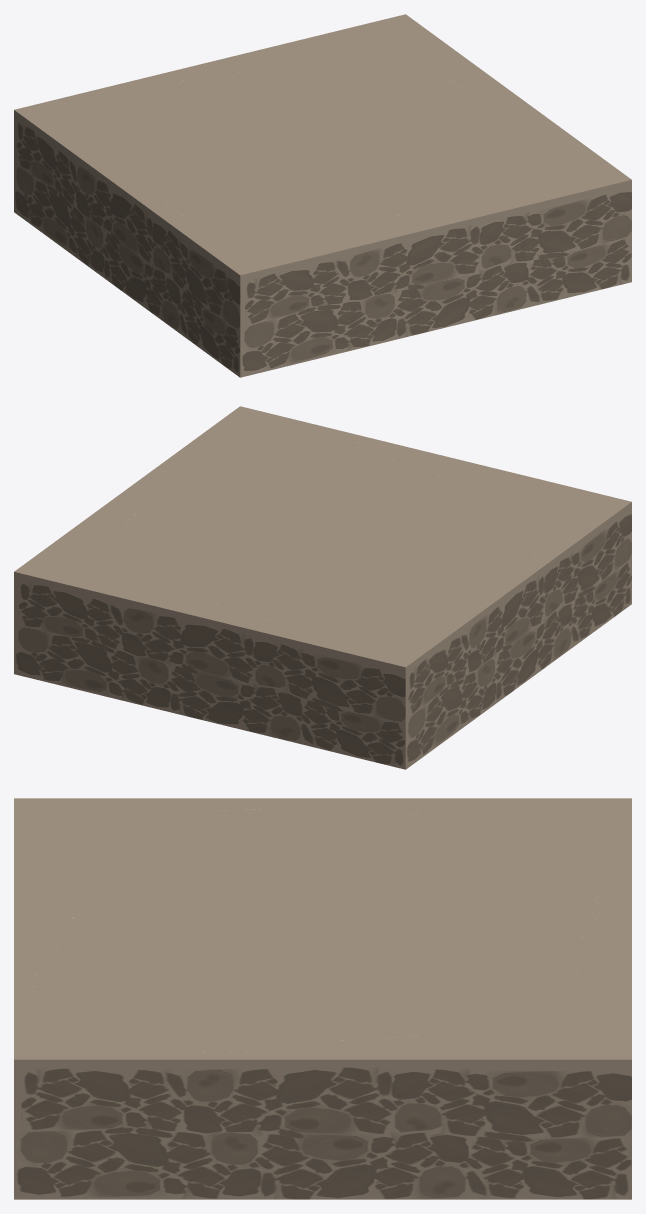
File: Mountain terrain block.fbx
3 views of the same model, one above another, from view 1: azimuth 30°, elevation 25°; view 2: azimuth 150°, elevation 25°; view 3: azimuth 270°, elevation 25° (orthographic). The views are drawn at different scales.
Parts seen in each view (by area): view 1: Mountain terrain block; view 2: Mountain terrain block; view 3: Mountain terrain block.
Boxes of the visible parts, x1=… form: Mountain terrain block: x1=14, y1=14, x2=631, y2=377; Mountain terrain block: x1=14, y1=406, x2=631, y2=769; Mountain terrain block: x1=14, y1=798, x2=631, y2=1199.
Bounding box in the file's own units: 100 × 24.98 × 100.
